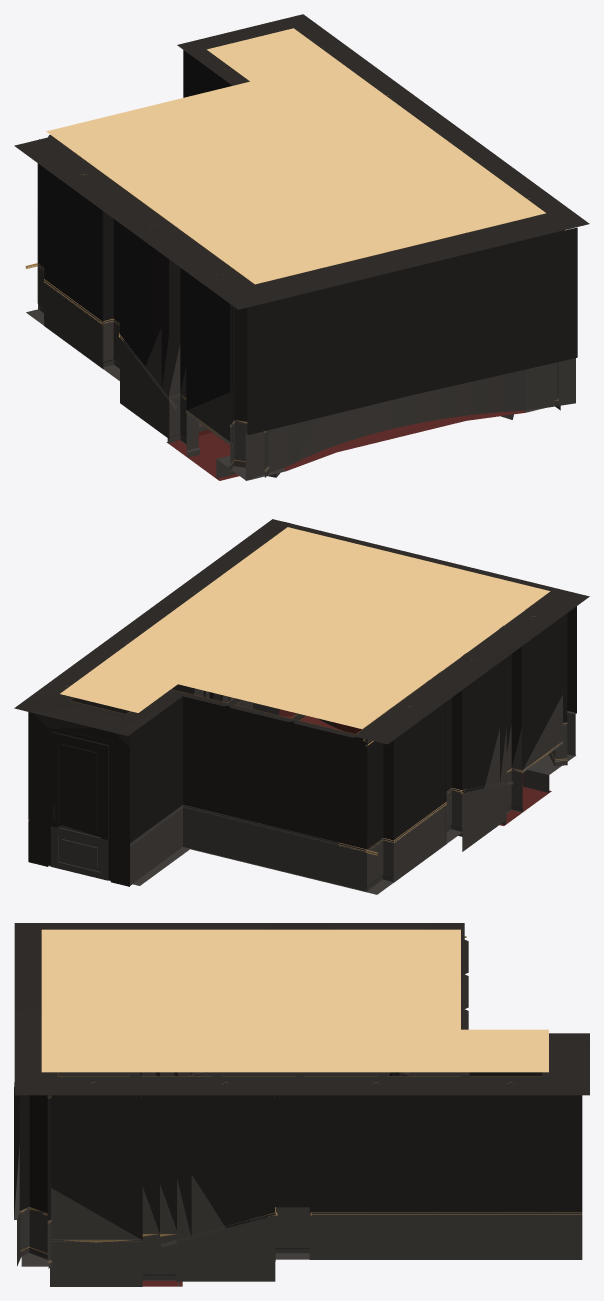
Rendered from private-home-cinema-textured.glb.
3 views of the same model, one above another, from view 1: azimuth 30°, elevation 25°; view 2: azimuth 150°, elevation 25°; view 3: azimuth 270°, elevation 25° (orthographic). The views are drawn at different scales.
Parts seen in each view (by area): view 1: Cinema interior, Ceiling light panels; view 2: Cinema interior, Ceiling light panels; view 3: Cinema interior, Ceiling light panels.
Part boxes in pixels (bbox=[...]): Cinema interior: bbox=[14, 14, 589, 480]; Ceiling light panels: bbox=[46, 28, 545, 284]; Cinema interior: bbox=[14, 519, 589, 894]; Ceiling light panels: bbox=[60, 527, 550, 728]; Cinema interior: bbox=[14, 923, 589, 1286]; Ceiling light panels: bbox=[41, 929, 548, 1072].
Bounding box in the file's own units: 2.4 × 1.34 × 3.39.
